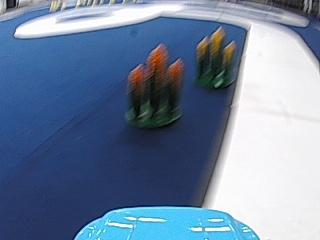corn: (123, 45, 182, 131), (193, 23, 239, 95)
